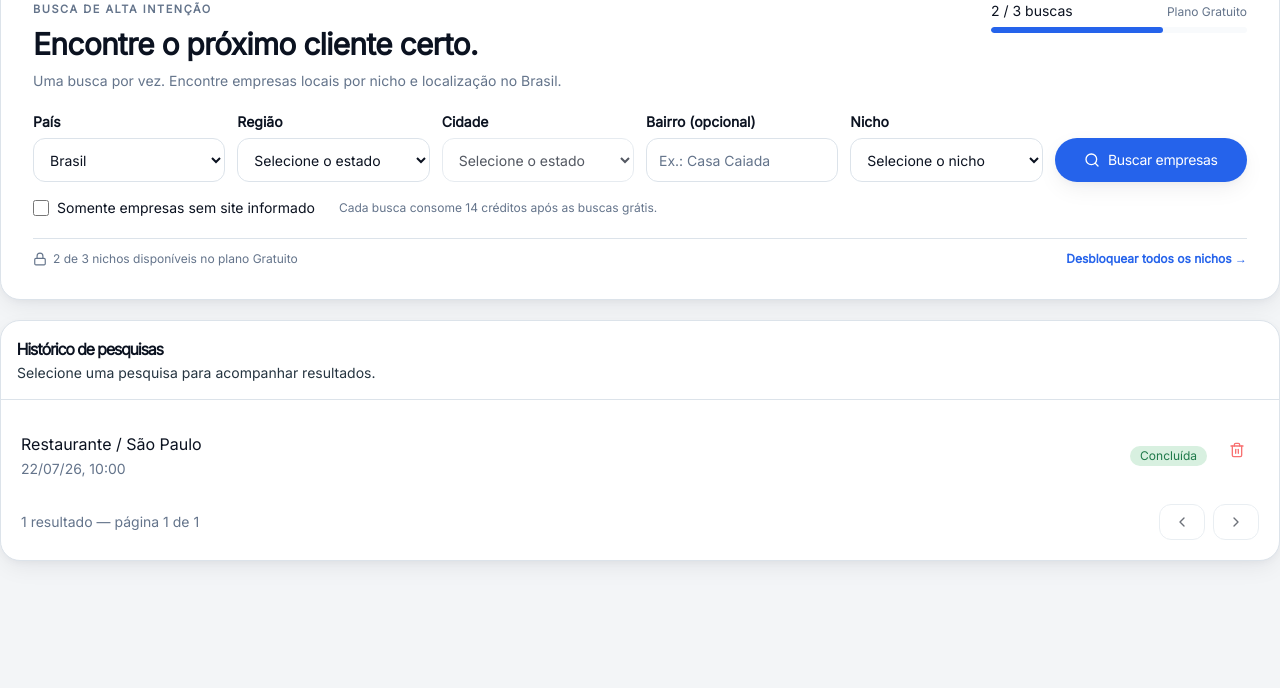
Test case: SearchPage › does not offer WhatsApp for a landline result
Click the button "Restaurante / São Paulo 22/07/26, 10:00 Concluída": (111, 444) [21,432,1207,480]
(page scrolled)
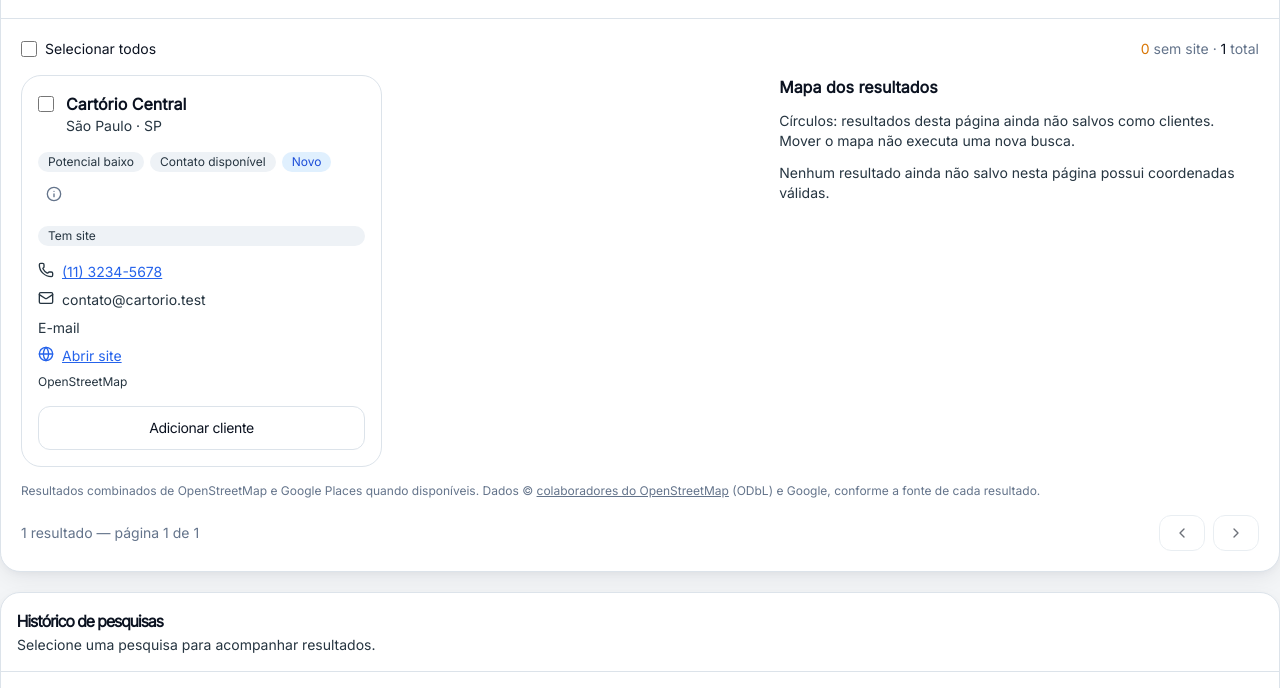
Result: the text "E-mail" is shown at [38,319,80,336]
